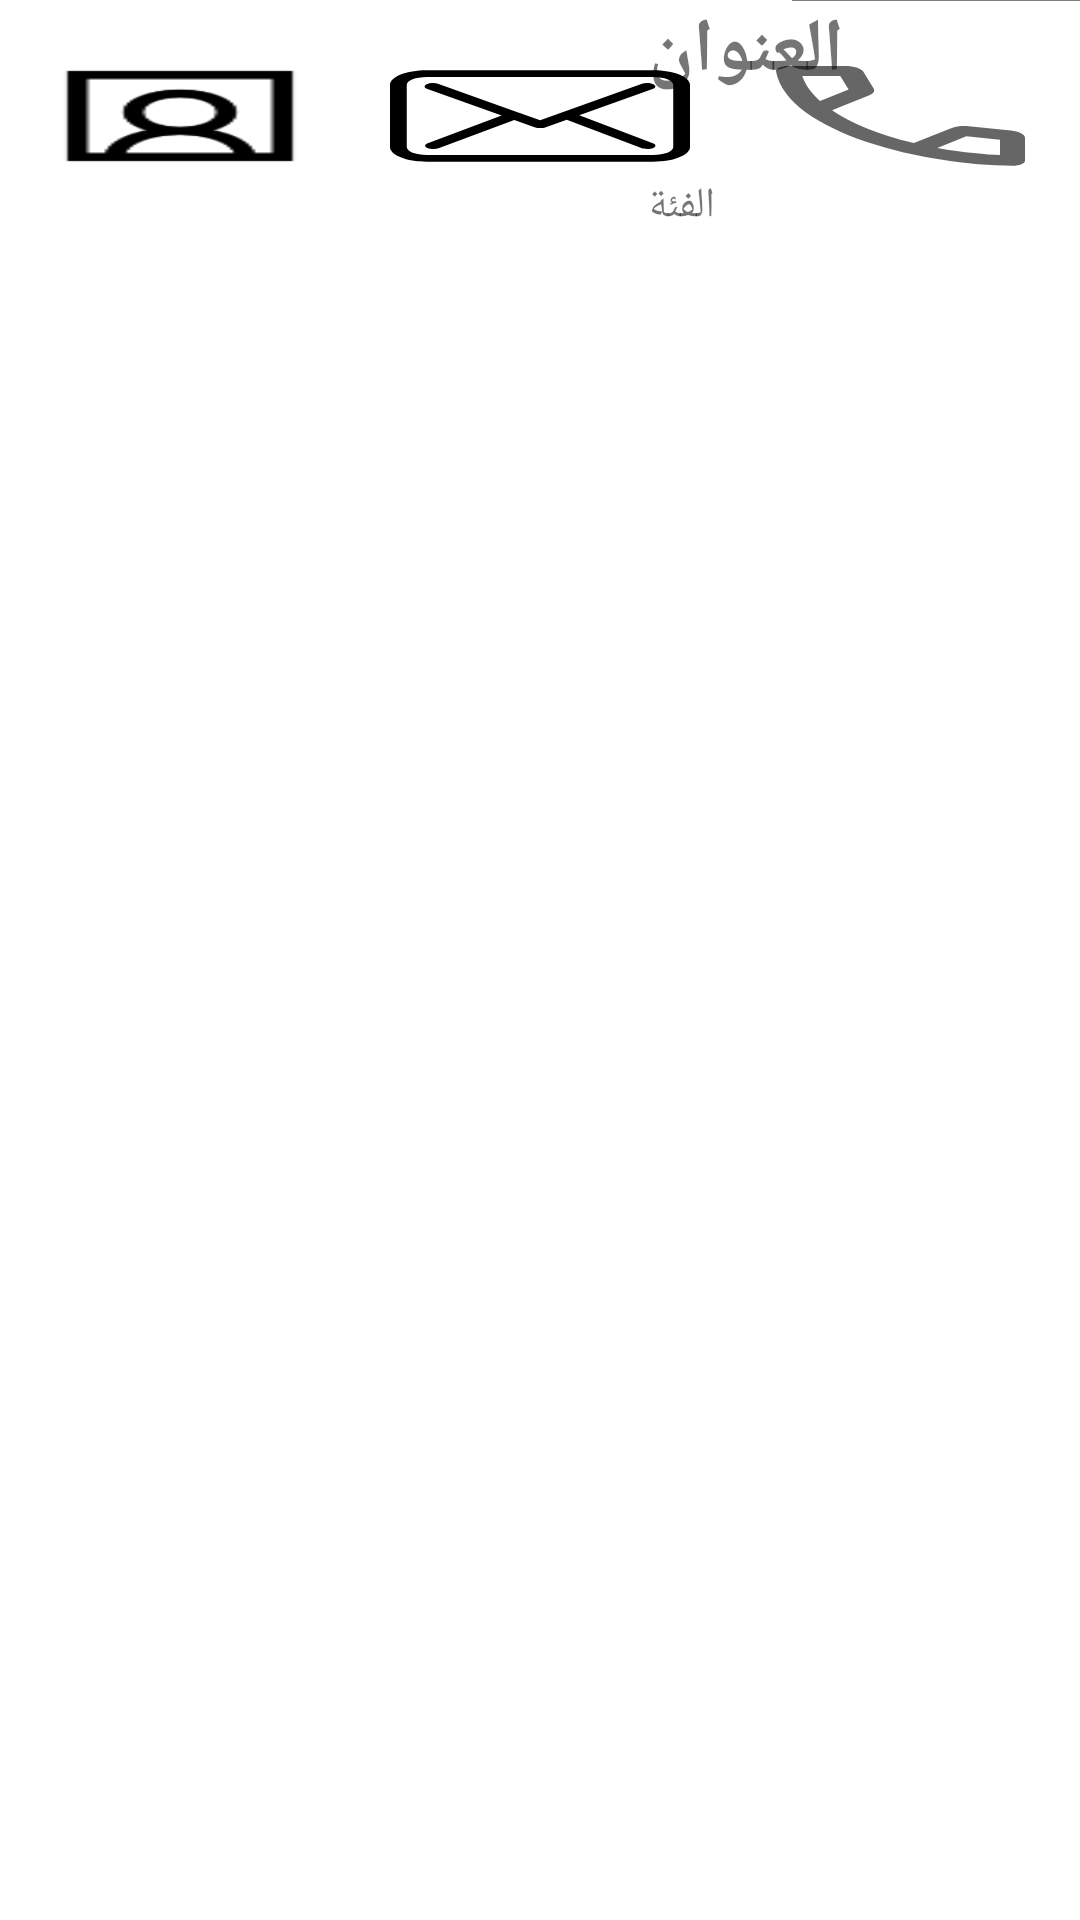

Icons on this 1080*1920 Android screen, each with its box as (x1, y1, x2, y2):
envelope: (390, 56, 690, 162)
profile: (66, 70, 294, 162)
